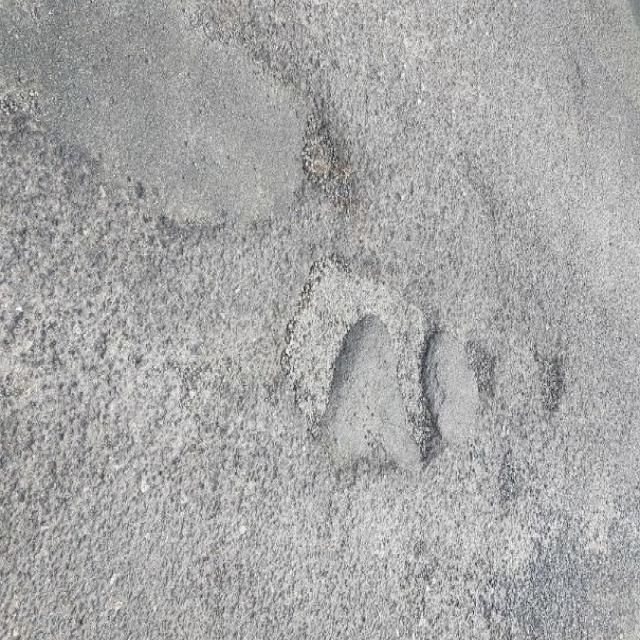pothole: (266, 239, 448, 466)
